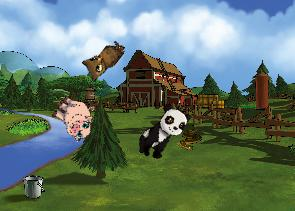owl: (76, 31, 127, 85)
panda: (132, 99, 193, 166)
pig: (46, 90, 101, 144)
